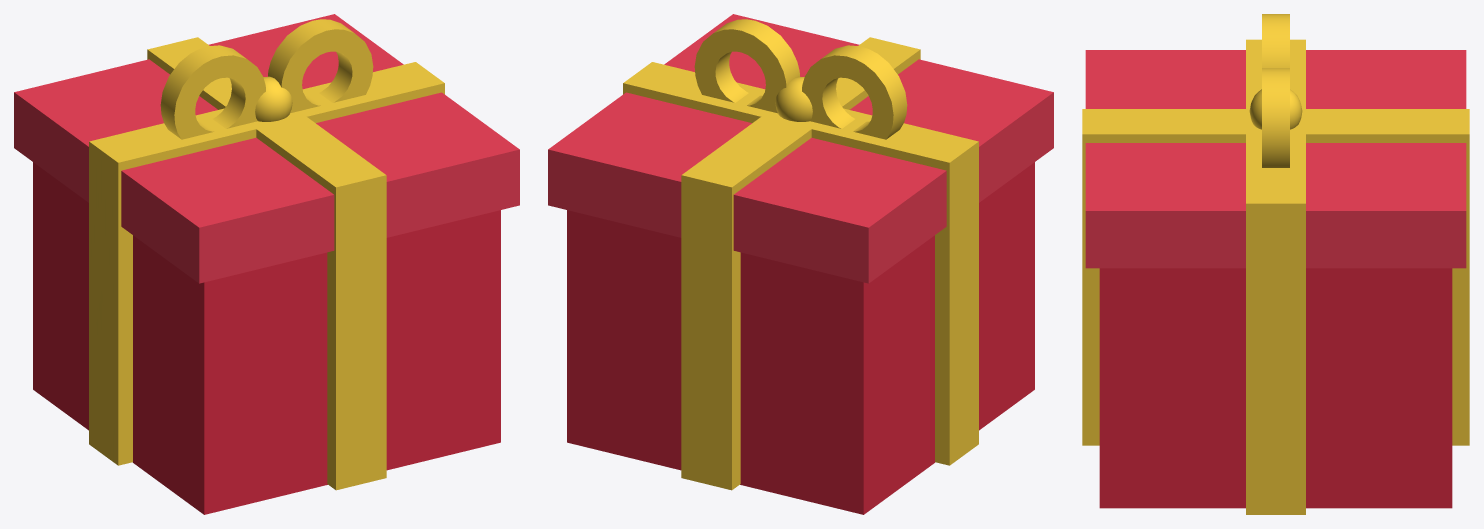
File: gift_box.obj
The picture shows the model from 3 angles, left to right: view 1: azimuth 30°, elevation 25°; view 2: azimuth 150°, elevation 25°; view 3: azimuth 270°, elevation 25°; orthographic projection. The views are drawn at different scales.
Parts seen in each view (by area): view 1: Box, Lid, RibbonZ, RibbonX, BowL, BowR, Knot, RibbonTopZ, RibbonTopX; view 2: Box, Lid, RibbonZ, RibbonX, BowL, BowR, Knot, RibbonTopX, RibbonTopZ; view 3: Box, Lid, RibbonX, RibbonZ, BowR, BowL, RibbonTopZ, Knot.
Part boxes in pixels (<box>): Box: <box>33,162,500,514</box>; Lid: <box>14,14,519,283</box>; RibbonZ: <box>147,37,386,490</box>; RibbonX: <box>89,62,444,465</box>; BowL: <box>160,45,265,139</box>; BowR: <box>268,19,373,113</box>; Knot: <box>255,76,292,121</box>; RibbonTopZ: <box>147,51,385,196</box>; RibbonTopX: <box>89,84,444,172</box>; Box: <box>567,162,1034,514</box>; Lid: <box>548,14,1053,283</box>; RibbonZ: <box>681,37,920,490</box>; RibbonX: <box>623,62,978,465</box>; BowL: <box>802,45,907,139</box>; BowR: <box>694,19,799,113</box>; Knot: <box>775,76,812,121</box>; RibbonTopX: <box>623,84,978,170</box>; RibbonTopZ: <box>681,50,920,196</box>; Box: <box>1099,268,1452,508</box>; Lid: <box>1085,50,1466,268</box>; RibbonX: <box>1246,39,1305,514</box>; RibbonZ: <box>1082,109,1469,445</box>; BowR: <box>1262,68,1289,167</box>; BowL: <box>1262,14,1289,67</box>; RibbonTopZ: <box>1082,135,1468,144</box>; Knot: <box>1249,89,1302,129</box>.
Size of the model in its own units: 2.2 by 2.43 by 2.2.
